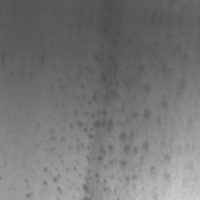pitted_surface: (25, 15, 188, 199)
